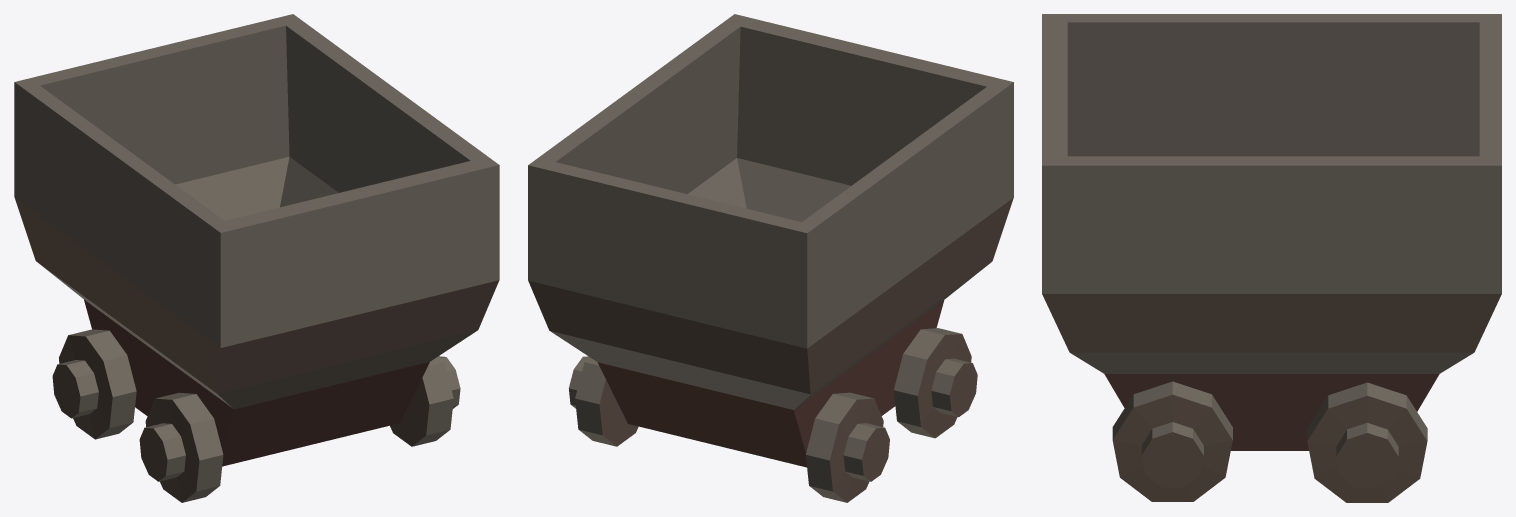
File: Minecart03.fbx
3 renders of one model, left to right at view 1: azimuth 30°, elevation 25°; view 2: azimuth 150°, elevation 25°; view 3: azimuth 270°, elevation 25°, orthographic. The views are drawn at different scales.
Parts seen in each view (by area): view 1: Minecart03, Minecart-rearWheels, Minecart-frontWheels; view 2: Minecart03, Minecart-frontWheels, Minecart-rearWheels; view 3: Minecart03, Minecart-frontWheels, Minecart-rearWheels.
Part boxes in pixels (x1,y1,x2,y2): Minecart03: (14, 14, 499, 466); Minecart-rearWheels: (139, 355, 460, 502); Minecart-frontWheels: (52, 329, 136, 439); Minecart03: (528, 14, 1013, 467); Minecart-frontWheels: (568, 356, 889, 502); Minecart-rearWheels: (893, 328, 977, 438); Minecart03: (1042, 14, 1501, 450); Minecart-frontWheels: (1307, 382, 1427, 502); Minecart-rearWheels: (1112, 381, 1232, 501).
Size of the model in its own units: 131 by 132 by 160.
